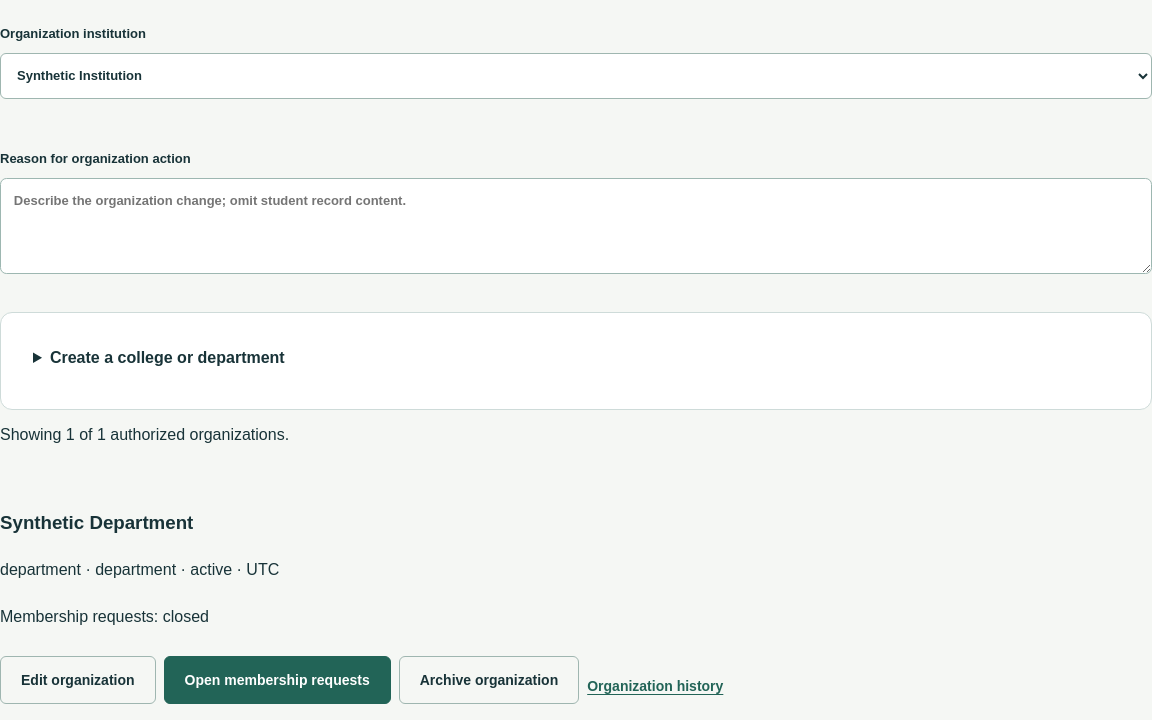
Test: institution administration works without operational department membership
(page scrolled)
Expected: the heading "Synthetic Department" is shown, x1=0 y1=512 x2=193 y2=533
Click the heading "Create a college or department" at (167, 357), box x1=50 y1=349 x2=285 y2=366
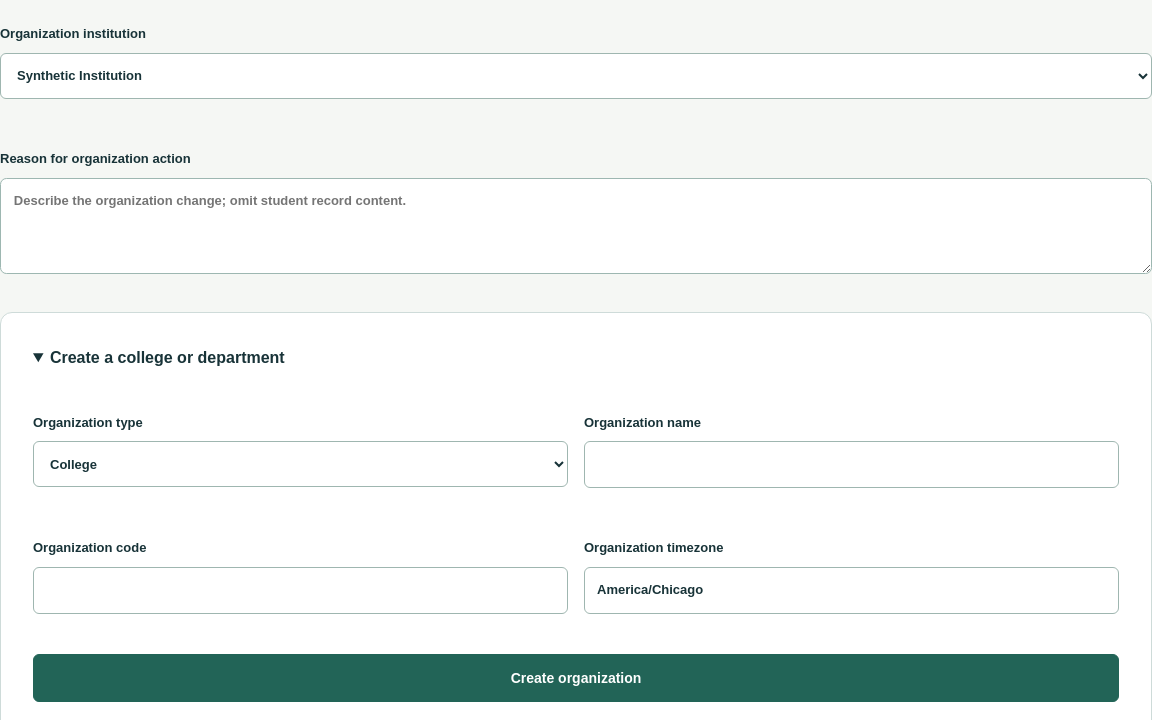
Now the dropdown labelled "Organization type" shows "College", box x1=33 y1=441 x2=568 y2=487
